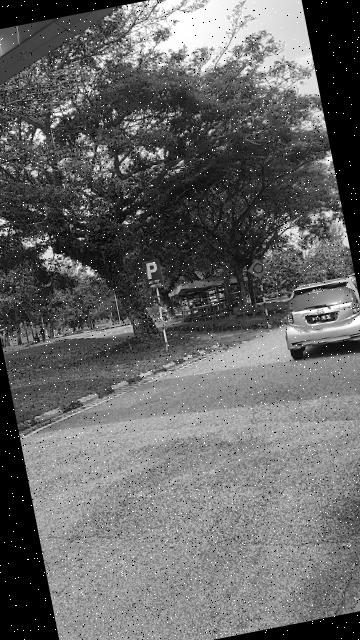License_Plate: (305, 310, 342, 328)
car: (275, 275, 360, 366)
